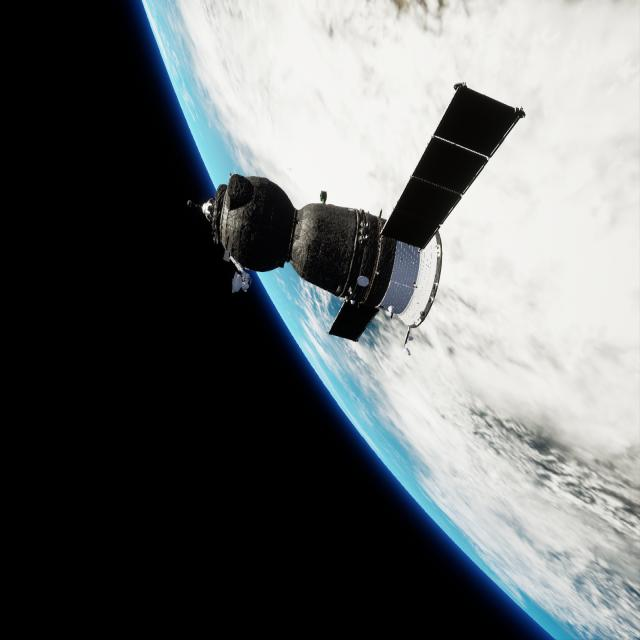Satellites revolving around earth: (188, 77, 528, 350)
